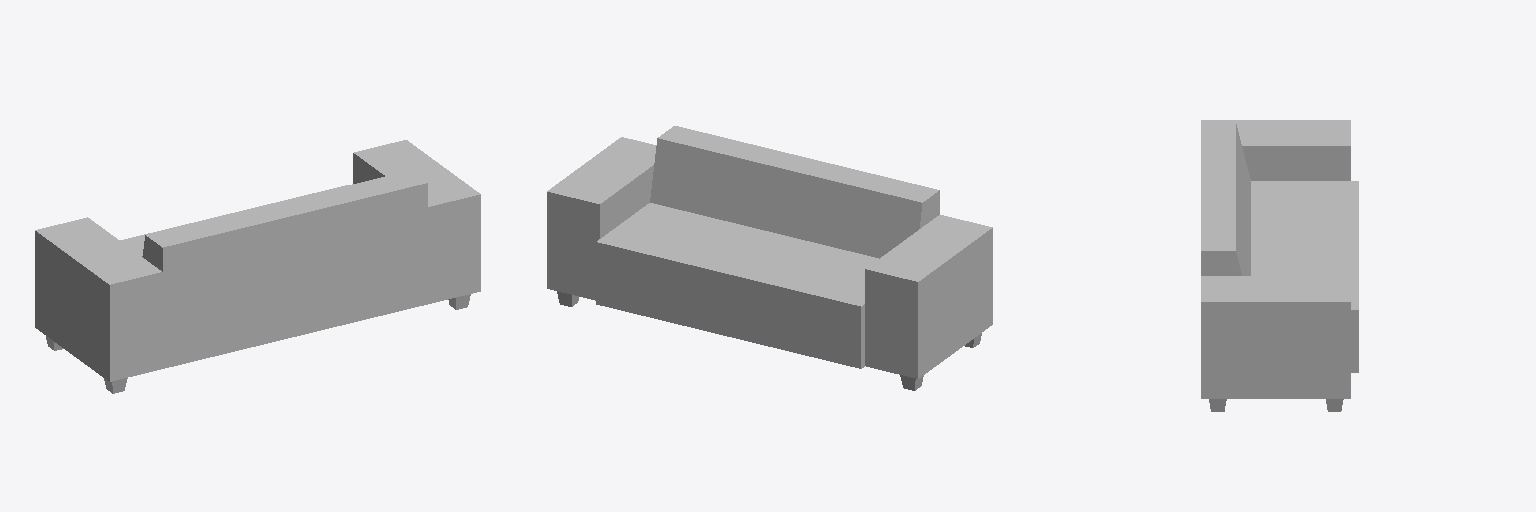
File: loungeDesignSofa.obj
The picture shows the model from 3 angles: view 1: azimuth 30°, elevation 25°; view 2: azimuth 150°, elevation 25°; view 3: azimuth 270°, elevation 25°; orthographic projection.
Visible parts, largest first — view 1: loungeDesignSofa; view 2: loungeDesignSofa; view 3: loungeDesignSofa.
Boxes of the visible parts, box(x1,y1,x2,y2) form: loungeDesignSofa: box(35, 140, 480, 393); loungeDesignSofa: box(547, 126, 992, 390); loungeDesignSofa: box(1201, 120, 1358, 411).
Bounding box in the file's own units: 1.12 × 0.4 × 0.41.